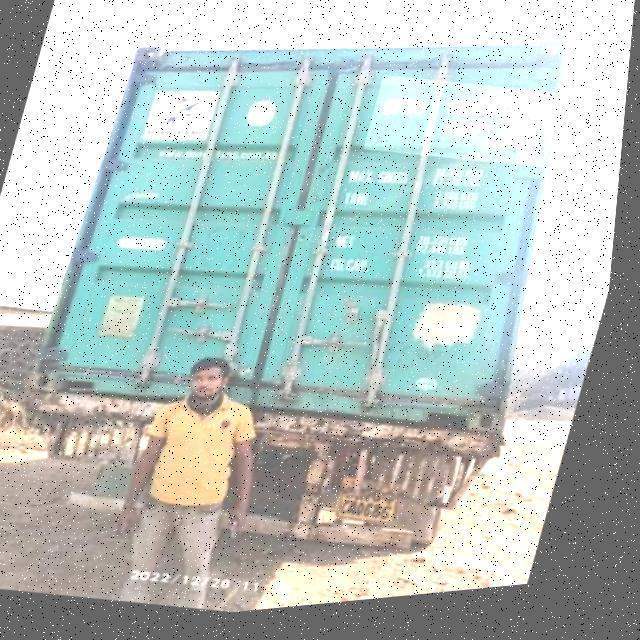container_number_h: (364, 70, 570, 193)
